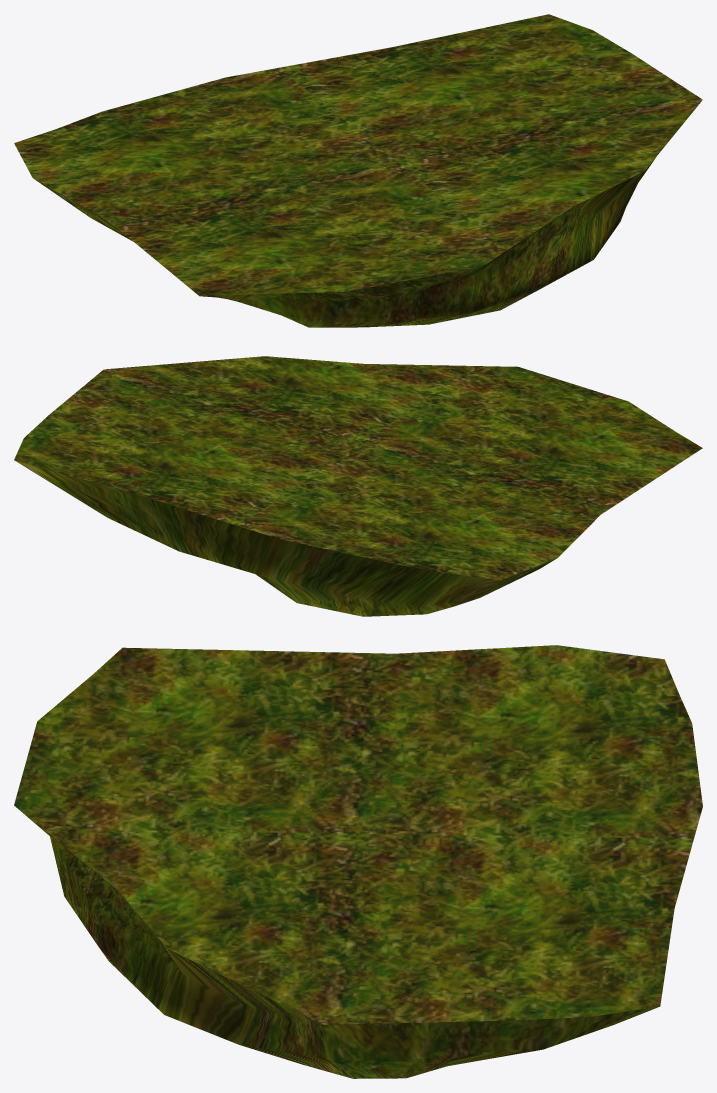
File: LVL_ROAST_MUTTON_ROCK_TILT_PLATFORM_TOP.fbx
The picture shows the model from 3 angles, top to bottom: view 1: azimuth 30°, elevation 25°; view 2: azimuth 150°, elevation 25°; view 3: azimuth 270°, elevation 25°; orthographic projection. The views are drawn at different scales.
Visible parts, largest first — view 1: LVL_ROAST_MUTTON_ROCK_TILT_PLATFORM_TOP; view 2: LVL_ROAST_MUTTON_ROCK_TILT_PLATFORM_TOP; view 3: LVL_ROAST_MUTTON_ROCK_TILT_PLATFORM_TOP.
Part boxes in pixels (x1,y1,x2,y2): LVL_ROAST_MUTTON_ROCK_TILT_PLATFORM_TOP: (14, 14, 702, 327); LVL_ROAST_MUTTON_ROCK_TILT_PLATFORM_TOP: (14, 356, 702, 616); LVL_ROAST_MUTTON_ROCK_TILT_PLATFORM_TOP: (14, 645, 702, 1078).
Bounding box in the file's own units: 69847 × 12956 × 53574.
1 material, 1 textured.
